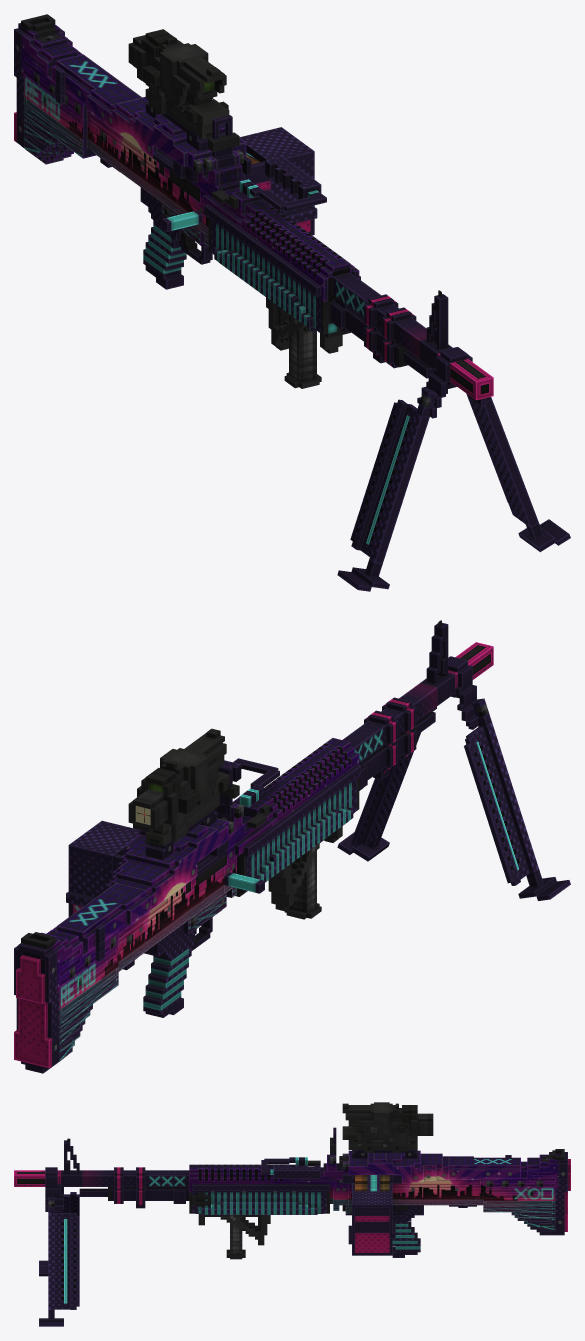
The model's file is RD_M60_RETRO.glb.
3 renders of one model, top to bottom at view 1: azimuth 30°, elevation 25°; view 2: azimuth 150°, elevation 25°; view 3: azimuth 270°, elevation 25°, orthographic. The views are drawn at different scales.
Parts seen in each view (by area): view 1: M60, M60_DIPOD_LEG1, M60_COVER, SCOPE_SUSAT, M60_DIPOD_LEG2, M60_CLIP, GRIP1, SCOPE_ACOG, GRIP3, M60_DIPOD, M60_SCOPE, SCOPE_KOBRA; view 2: M60, M60_COVER, M60_DIPOD_LEG1, SCOPE_SUSAT, M60_CLIP, M60_DIPOD_LEG2, SCOPE_ACOG, GRIP3, M60_DIPOD, GRIP1, SCOPE_KOBRA, M60_SCOPE (+2 smaller); view 3: M60, M60_COVER, M60_DIPOD_LEG2, M60_CLIP, SCOPE_SUSAT, SCOPE_ACOG, GRIP3, M60_DIPOD, GRIP1, M60_DIPOD_LEG1, SCOPE_KOBRA, M60_COVER_PLANK.
Part boxes in pixels (x1,y1,x2,y2): M60: (14, 14, 493, 400); M60_DIPOD_LEG1: (337, 389, 436, 591); M60_COVER: (52, 54, 246, 171); SCOPE_SUSAT: (141, 29, 229, 139); M60_DIPOD_LEG2: (466, 393, 570, 552); M60_CLIP: (239, 127, 317, 235); GRIP1: (284, 312, 321, 388); SCOPE_ACOG: (128, 35, 213, 110); GRIP3: (266, 297, 342, 353); M60_DIPOD: (417, 347, 485, 418); M60_SCOPE: (208, 115, 239, 169); SCOPE_KOBRA: (149, 85, 199, 137); M60: (14, 620, 493, 1073); M60_COVER: (52, 817, 228, 961); M60_DIPOD_LEG1: (464, 698, 570, 900); SCOPE_SUSAT: (141, 728, 229, 846); M60_CLIP: (66, 820, 139, 916); M60_DIPOD_LEG2: (337, 733, 420, 861); SCOPE_ACOG: (128, 756, 220, 832); GRIP3: (268, 826, 342, 911); M60_DIPOD: (431, 656, 478, 729); GRIP1: (284, 851, 321, 919); SCOPE_KOBRA: (171, 793, 217, 841); M60_SCOPE: (214, 765, 239, 815); M60: (14, 1138, 570, 1257); M60_COVER: (339, 1150, 520, 1183); M60_DIPOD_LEG2: (39, 1197, 79, 1326); M60_CLIP: (348, 1183, 395, 1255); SCOPE_SUSAT: (342, 1102, 417, 1152); SCOPE_ACOG: (358, 1109, 433, 1140); GRIP3: (198, 1213, 270, 1245); M60_DIPOD: (45, 1167, 63, 1211); GRIP1: (226, 1215, 245, 1259); M60_DIPOD_LEG1: (39, 1192, 79, 1276); SCOPE_KOBRA: (352, 1128, 408, 1151); M60_COVER_PLANK: (352, 1150, 417, 1158).
Size of the model in its own units: 0.4731 by 0.673 by 1.75.
11 materials, 11 textured.
